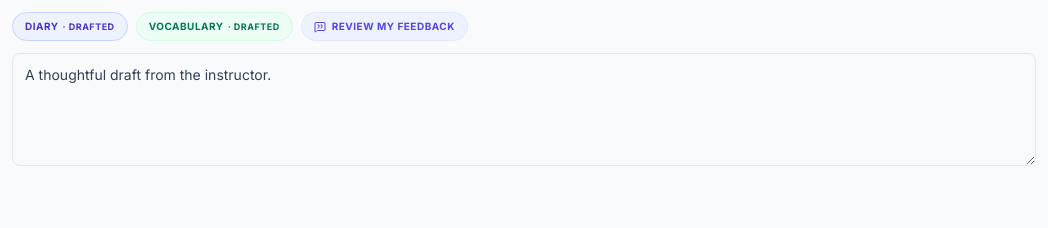
AI review prerequisite recovery › explicit successful recovery clears identity_not_bound despite cached-true prerequisites
The image size is (1048, 228).
Later steps or results of the test are not shown.
Click the button "Review my feedback" at (384,26), box [301,12,468,41]
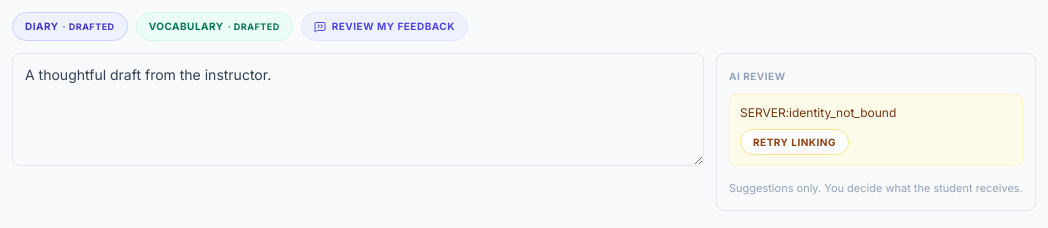
Expected: the button "Retry linking" is shown, [740,129,849,155]
